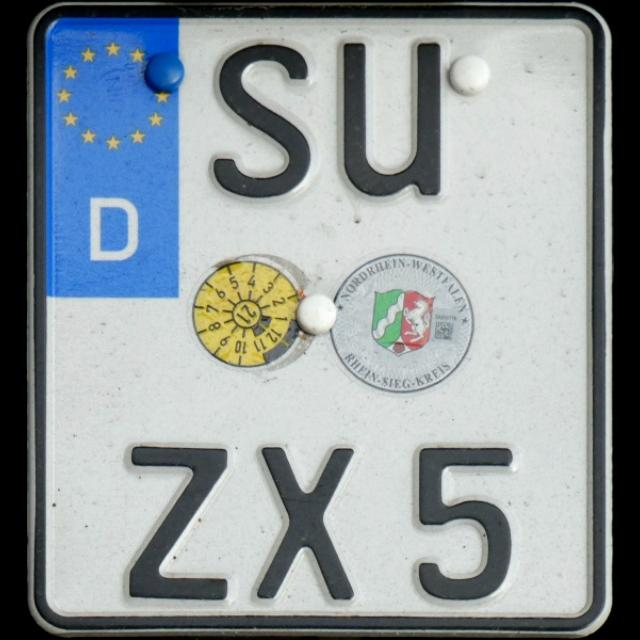d_license_plate: (34, 8, 606, 626)
